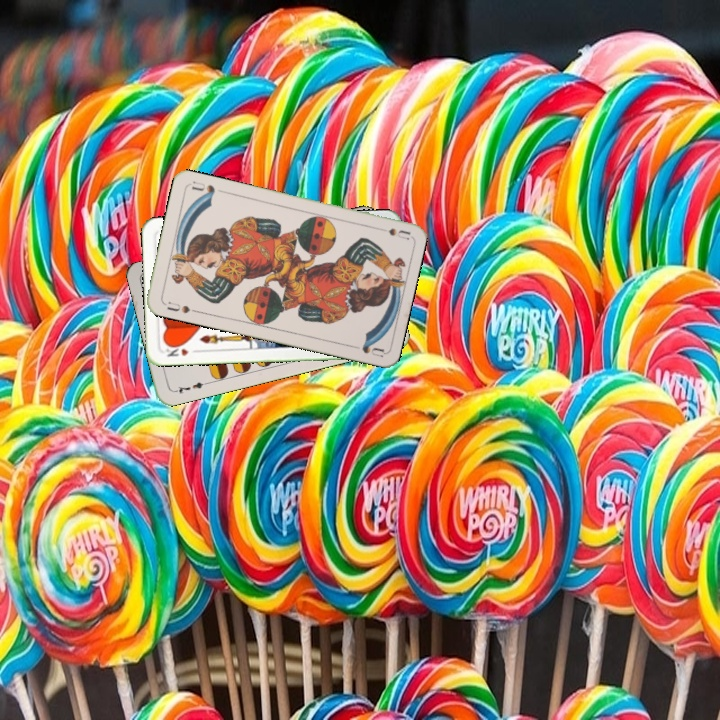E7: (170, 378, 210, 396)
HK: (161, 341, 201, 359)
SU: (163, 298, 200, 316), (384, 224, 412, 242)
